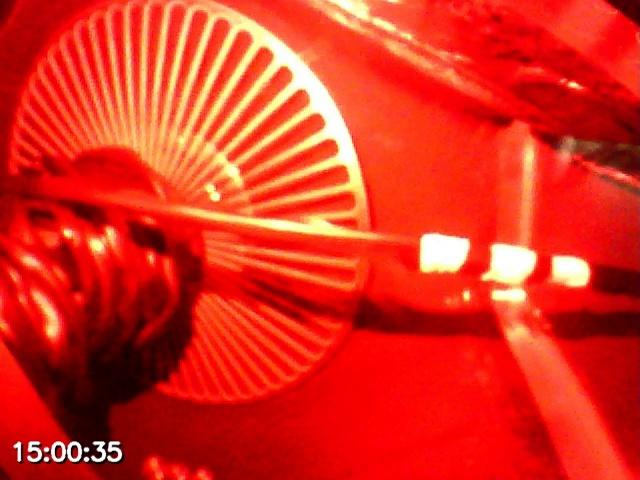white-dots: (419, 234, 589, 287)
